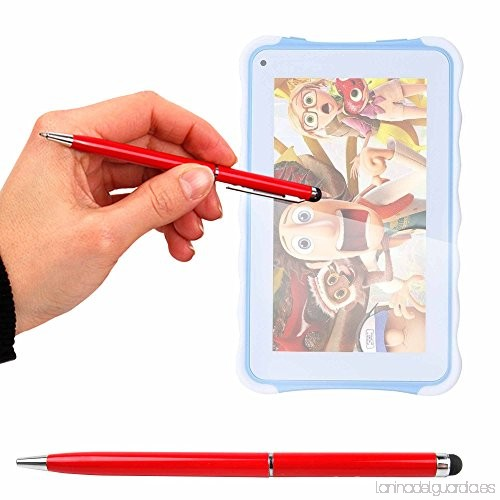Boligrafo: (30, 120, 327, 209), (7, 446, 471, 490)
